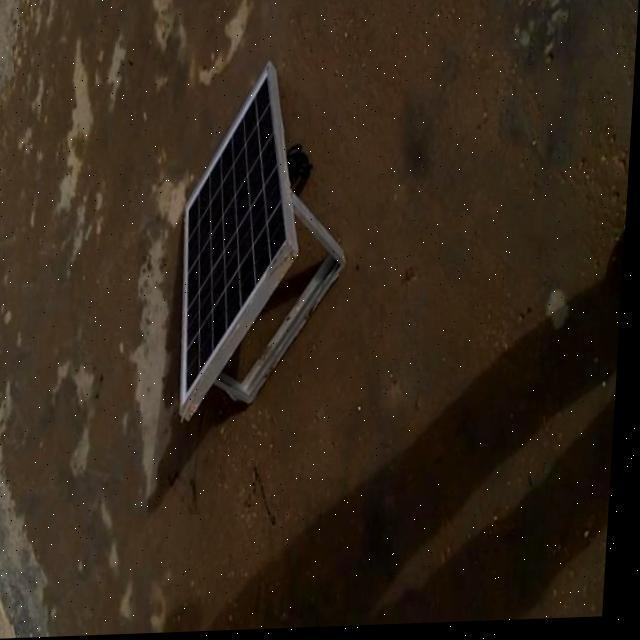Normal Solar Panel: (179, 63, 310, 420)
